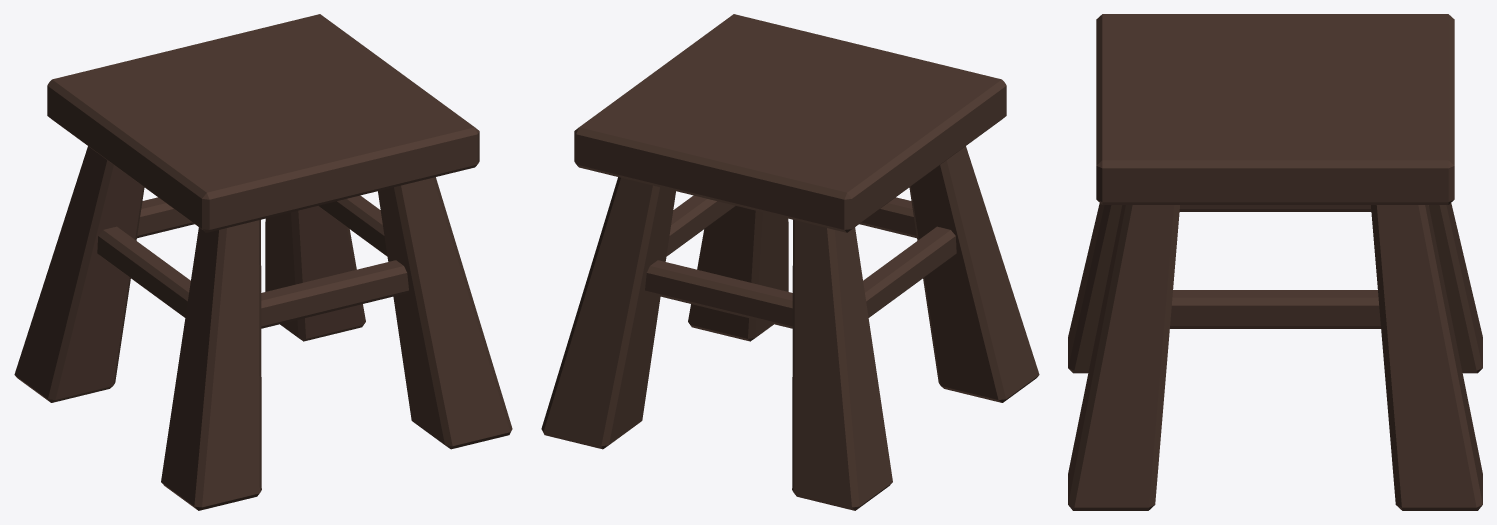
Rendered from chair.fbx.
3 renders of one model, left to right at view 1: azimuth 30°, elevation 25°; view 2: azimuth 150°, elevation 25°; view 3: azimuth 270°, elevation 25°, orthographic. The views are drawn at different scales.
Parts seen in each view (by area): view 1: chair; view 2: chair; view 3: chair.
Part boxes in pixels (x1,y1,x2,y2): chair: (14, 14, 512, 510); chair: (541, 14, 1039, 510); chair: (1068, 14, 1482, 510).
Bounding box in the file's own units: 229 × 209 × 231.
